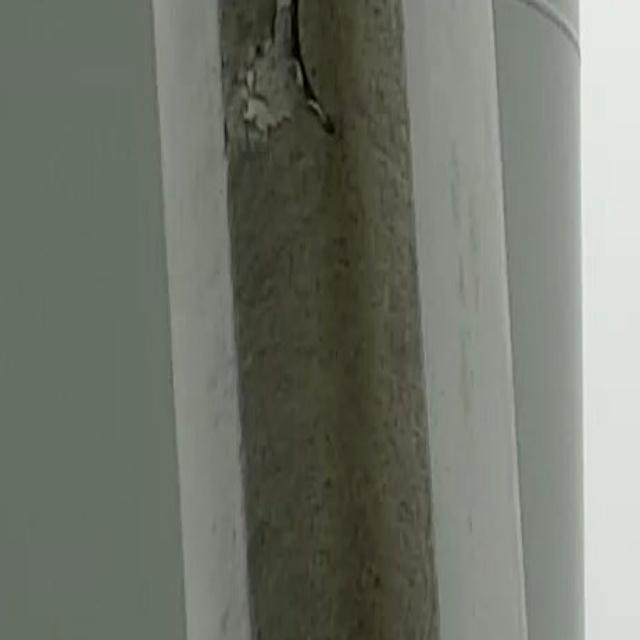EROSION: (227, 1, 437, 640)
